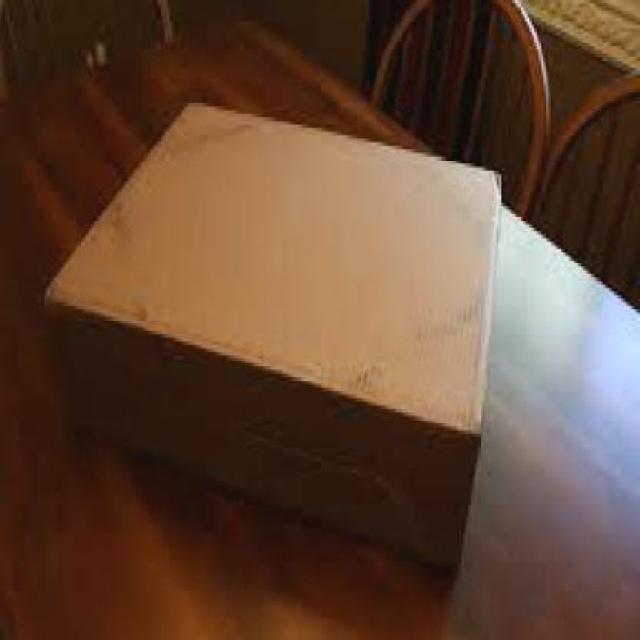-: (49, 101, 507, 568)
